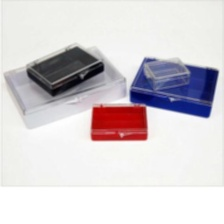plastic_box: (1, 40, 133, 134), (126, 51, 224, 122), (21, 37, 108, 100), (86, 98, 153, 145), (141, 52, 195, 93)
